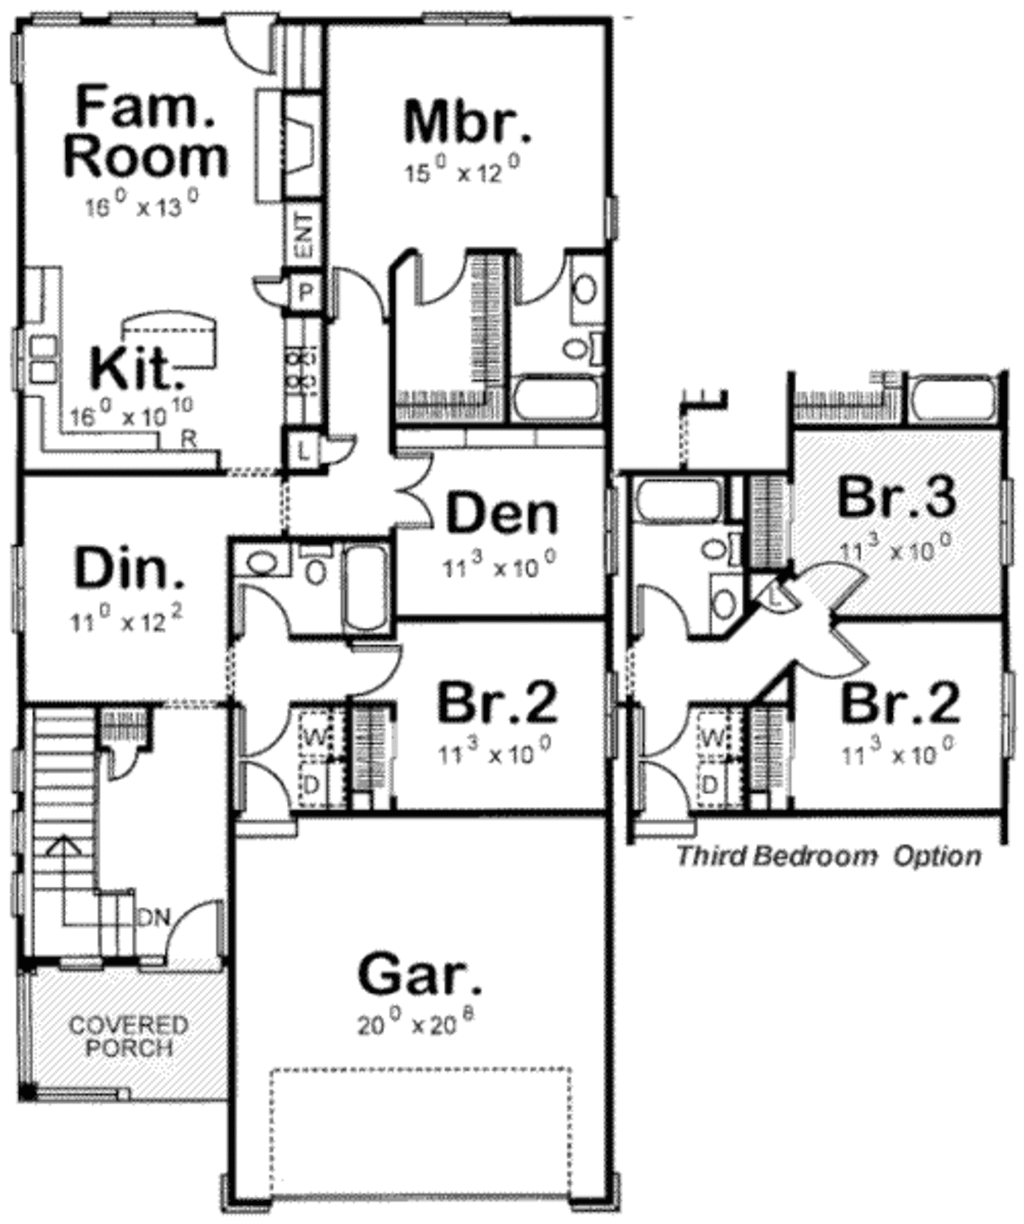door: (146, 892, 246, 973), (215, 749, 299, 838), (791, 614, 878, 694), (790, 548, 875, 610), (223, 696, 304, 758), (389, 449, 443, 541), (338, 634, 409, 703), (627, 577, 697, 649), (637, 762, 700, 839), (320, 260, 389, 328), (509, 234, 570, 309), (225, 577, 292, 646), (628, 700, 697, 767), (411, 247, 477, 311), (215, 9, 277, 77), (96, 742, 149, 795), (246, 270, 289, 313), (314, 430, 365, 466)
large_sink: (675, 521, 754, 565), (556, 317, 610, 368)
small_sink: (567, 249, 616, 327), (232, 532, 299, 586), (710, 568, 749, 629)
stairs: (15, 710, 149, 970)
tub: (892, 365, 1000, 420), (621, 468, 724, 524), (499, 370, 602, 424)
twin_sink: (20, 327, 81, 396)
window: (10, 542, 38, 642), (418, 9, 520, 30)
